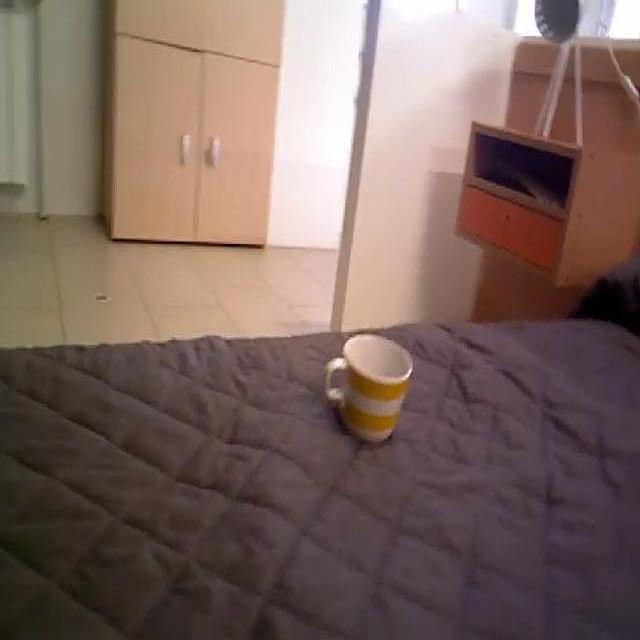cup: (324, 330, 416, 442)
